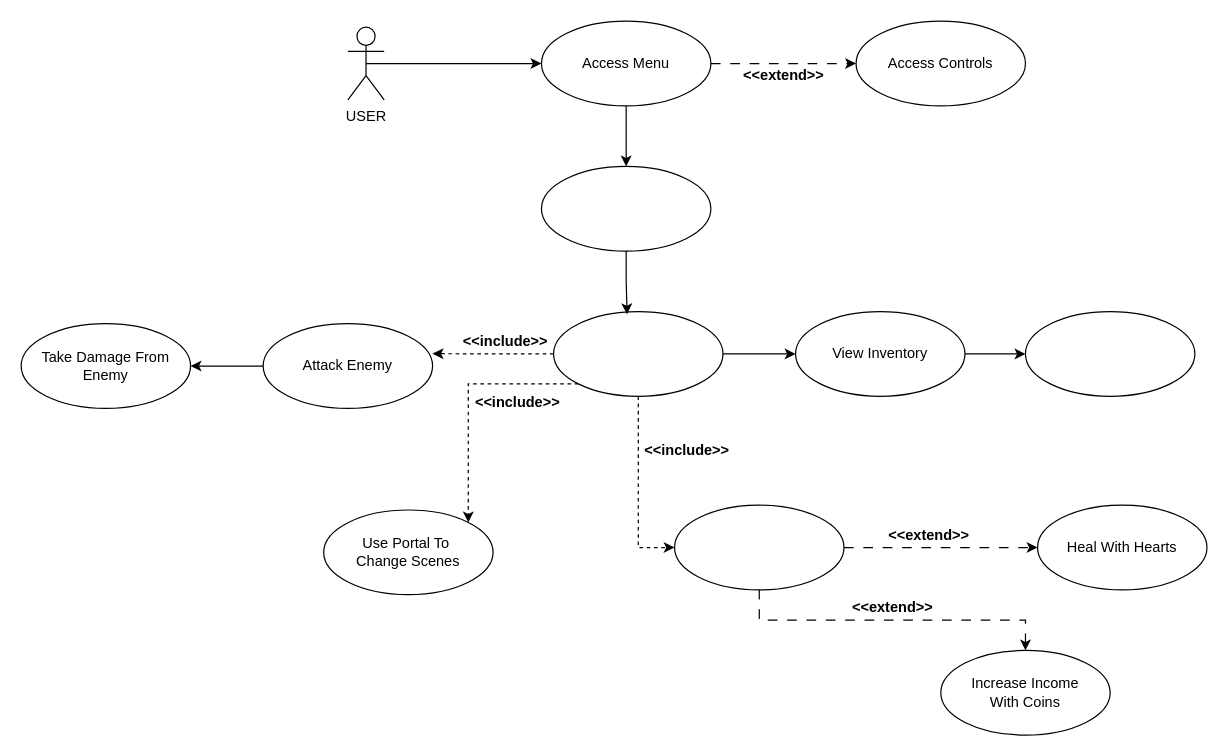
This 1228x756 diagram has some shape labels left out. Each missing label, with the box of its shape:
Move Character: (552, 310, 723, 396)
Pick Up Item: (673, 504, 844, 590)
Start Game: (540, 165, 711, 251)
Switch Weapons: (1024, 310, 1195, 396)
